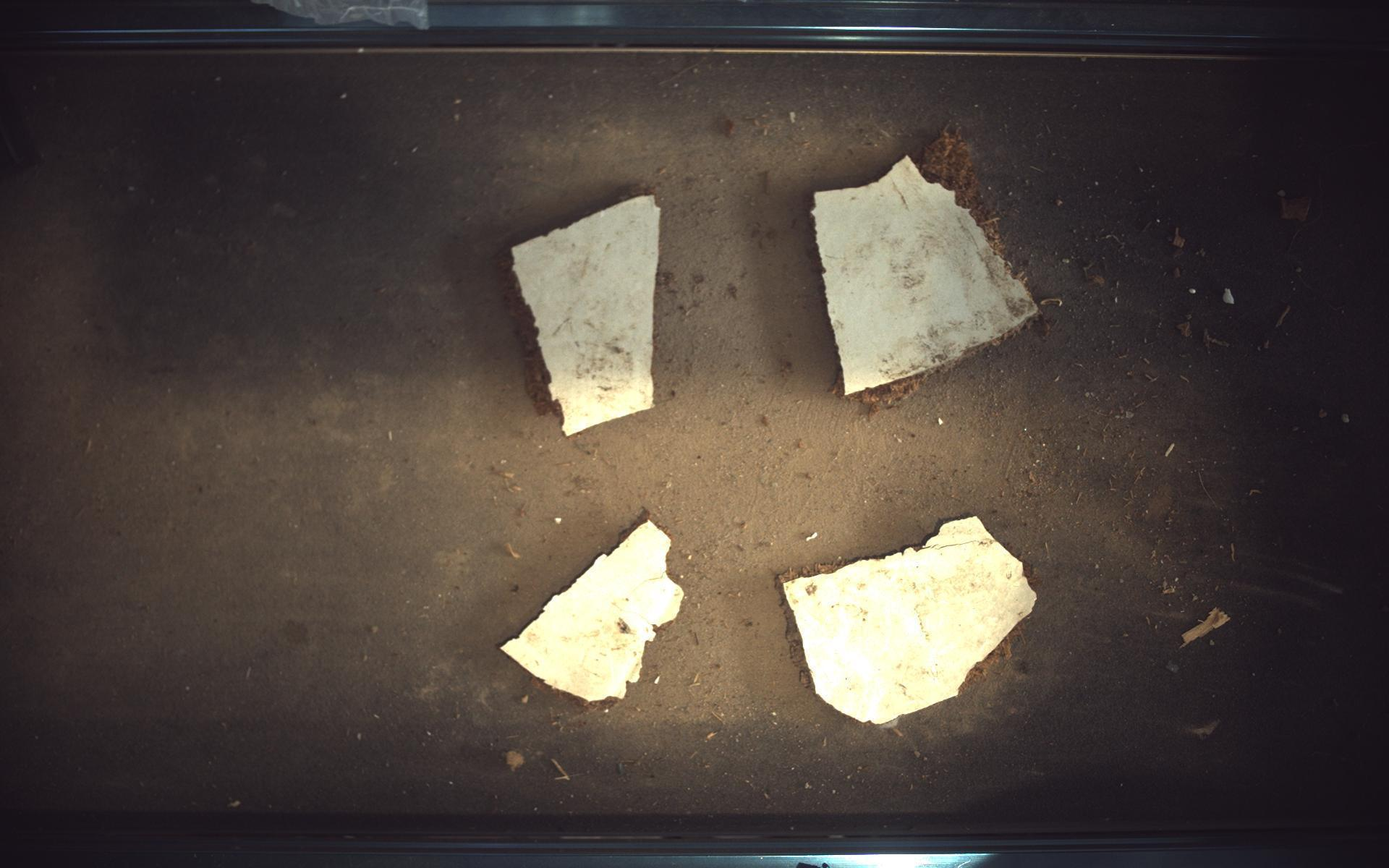wood: (814, 129, 1041, 404), (784, 517, 1038, 725), (513, 195, 661, 435), (501, 520, 685, 702)
